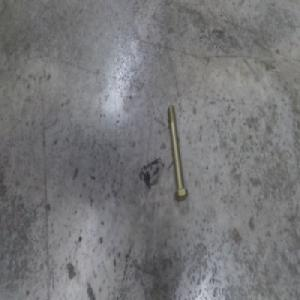Bolt: (166, 104, 188, 200)
